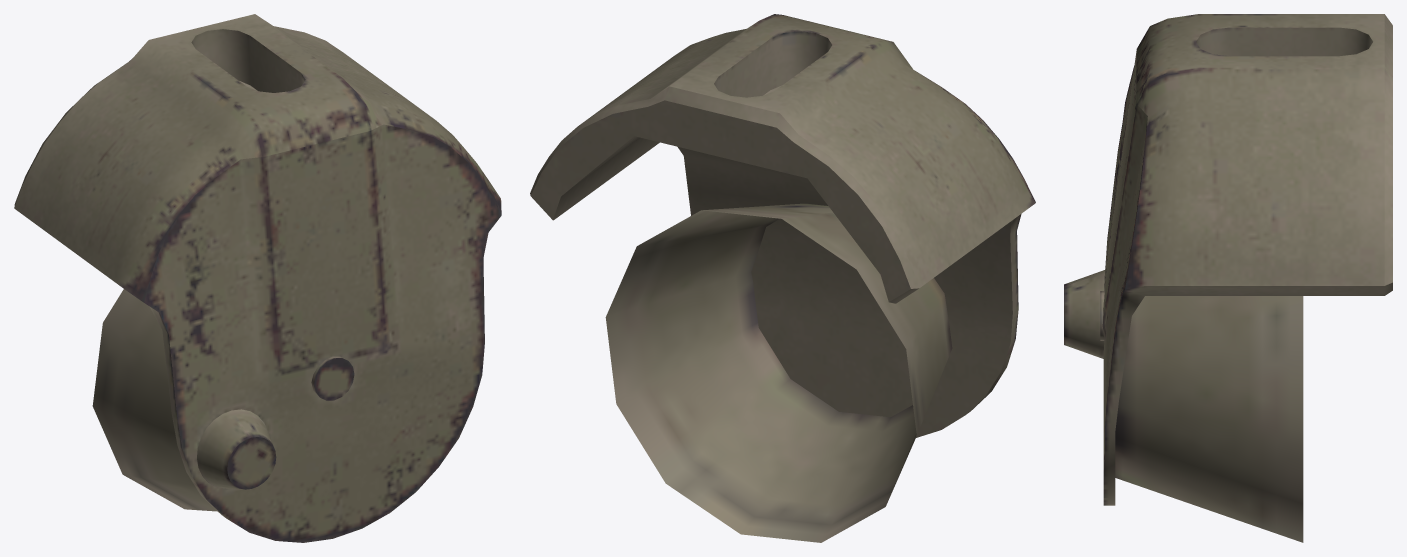
The model's file is Turret_01.glb.
3 views of the same model, side by side, from view 1: azimuth 30°, elevation 25°; view 2: azimuth 150°, elevation 25°; view 3: azimuth 270°, elevation 25° (orthographic). The views are drawn at different scales.
Visible parts, largest first — view 1: set_0_group_0; view 2: set_0_group_0; view 3: set_0_group_0.
Part boxes in pixels (<box>): set_0_group_0: <box>14,14,501,542</box>; set_0_group_0: <box>530,14,1035,542</box>; set_0_group_0: <box>1064,14,1392,542</box>.
Size of the model in its own units: 1.25 by 1.44 by 0.8829.
1 material, 1 textured.
